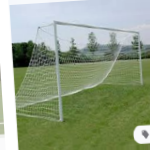goals: (17, 19, 147, 125)
